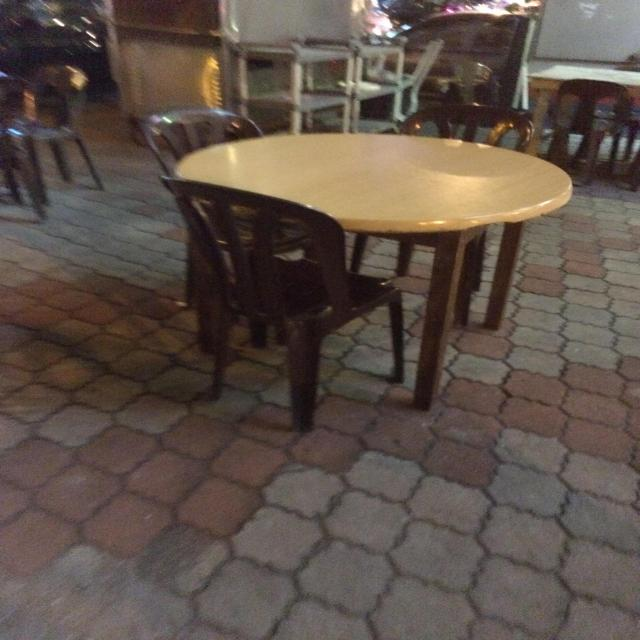Table: (160, 118, 576, 400)
chair: (139, 167, 397, 443), (83, 87, 304, 203), (0, 54, 126, 203), (539, 53, 640, 190), (424, 69, 542, 165)
